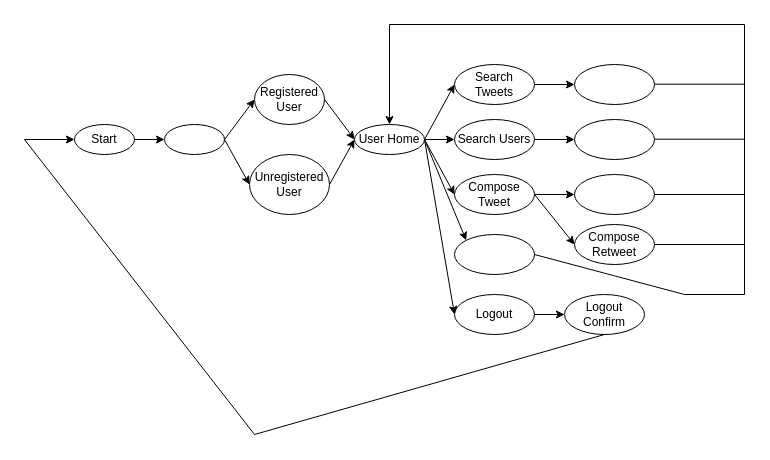
Some shapes in this 770 by 460 pixel diagram are drawn without their labels. Here are the shapes that lost their labels. From the top down, the centre of each, then its label:
At (x=614, y=84): "Tweet Details".
At (x=194, y=139): "Login".
At (x=614, y=139): "User Details".
At (x=614, y=194): "Compose Reply".
At (x=494, y=254): "List Followers".
